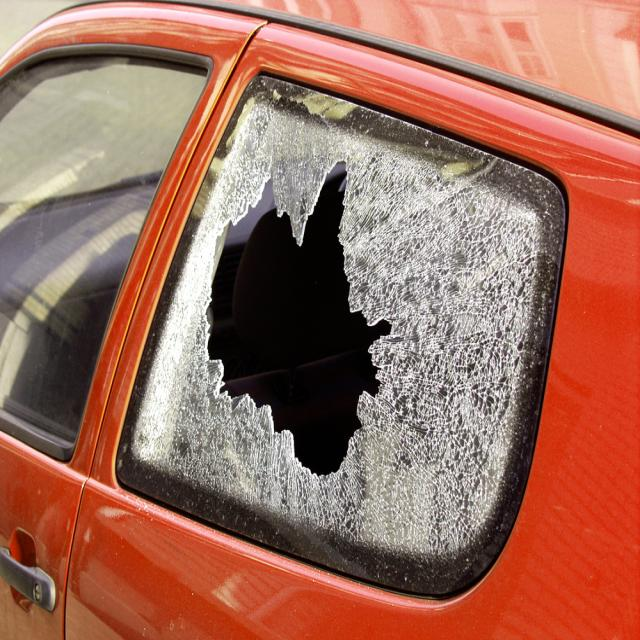glass shatter: (115, 75, 566, 595)
